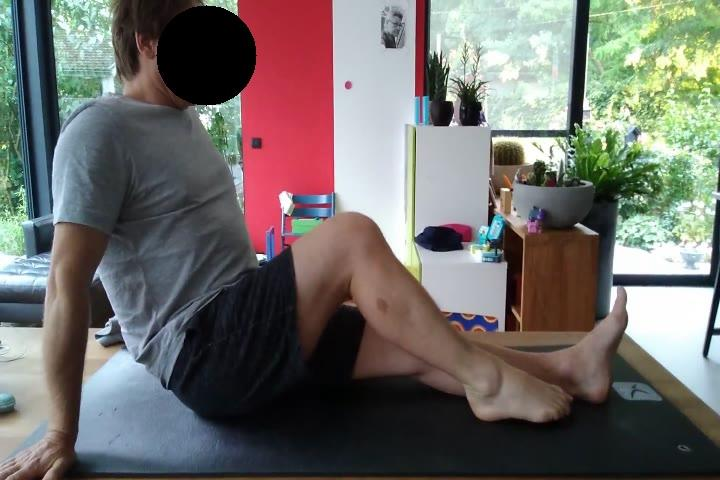lower_body: (168, 208, 633, 428)
